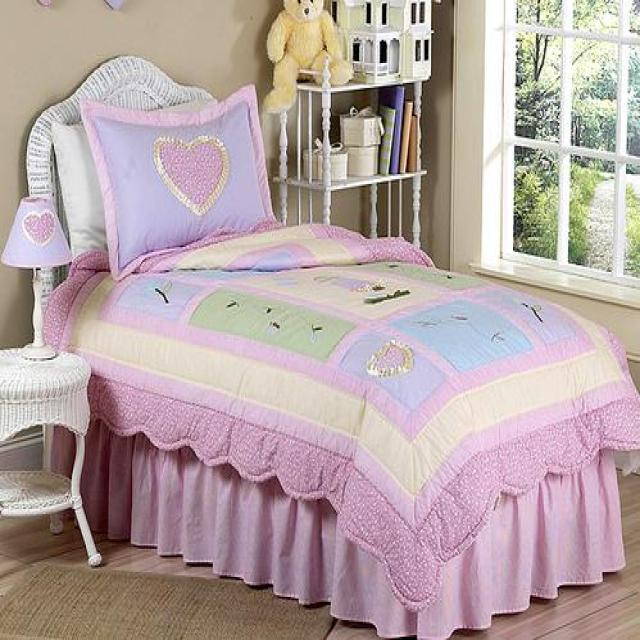bed: (24, 53, 638, 640)
